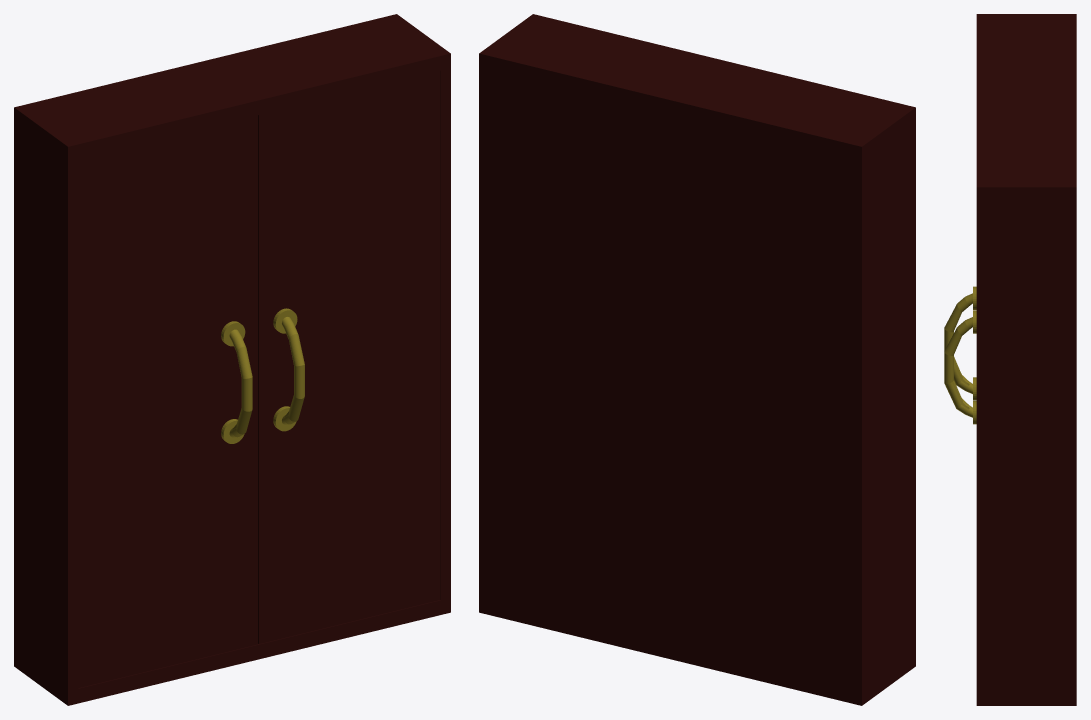
The model's file is armario.fbx.
3 renders of one model, left to right at view 1: azimuth 30°, elevation 25°; view 2: azimuth 150°, elevation 25°; view 3: azimuth 270°, elevation 25°, orthographic. The views are drawn at different scales.
Visible parts, largest first — view 1: Puerta_derch, Puerta_izq, Armario; view 2: Armario; view 3: Armario, Puerta_derch, Puerta_izq.
Boxes of the visible parts, box(x1,y1,x2,y2) form: Puerta_derch: box(258, 71, 440, 643); Puerta_izq: box(78, 115, 257, 687); Armario: box(14, 14, 450, 705); Armario: box(479, 14, 915, 705); Armario: box(976, 14, 1076, 705); Puerta_derch: box(944, 310, 976, 424); Puerta_izq: box(944, 286, 976, 400).
Size of the model in its own units: 819 by 1143 by 265.
